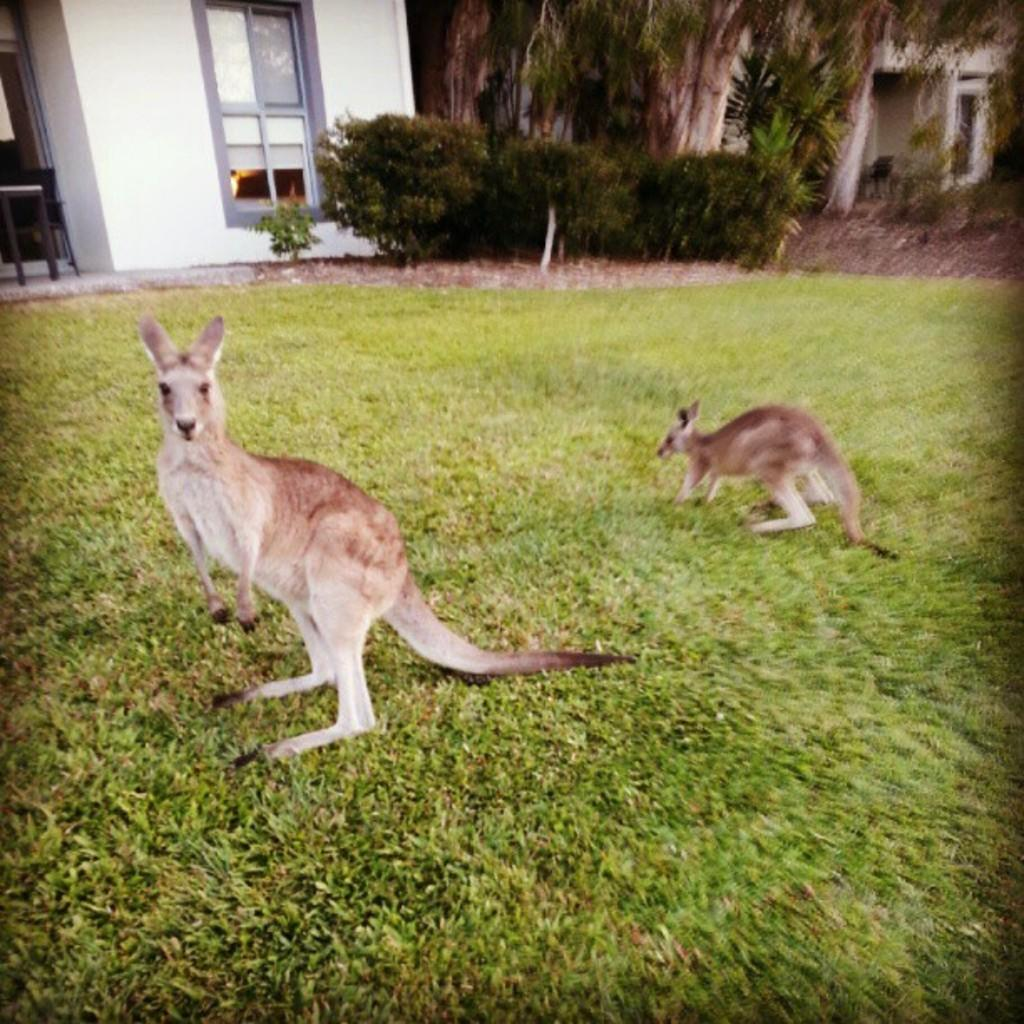kangaroo: (142, 320, 638, 762), (654, 402, 902, 560)
